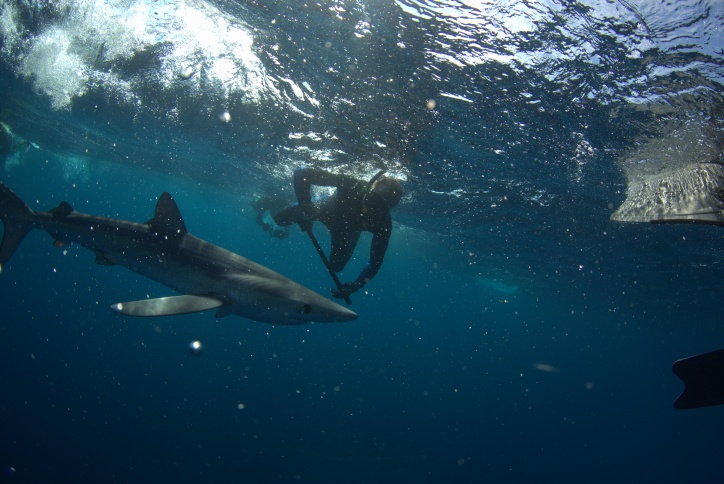Azul: (1, 180, 363, 354)
